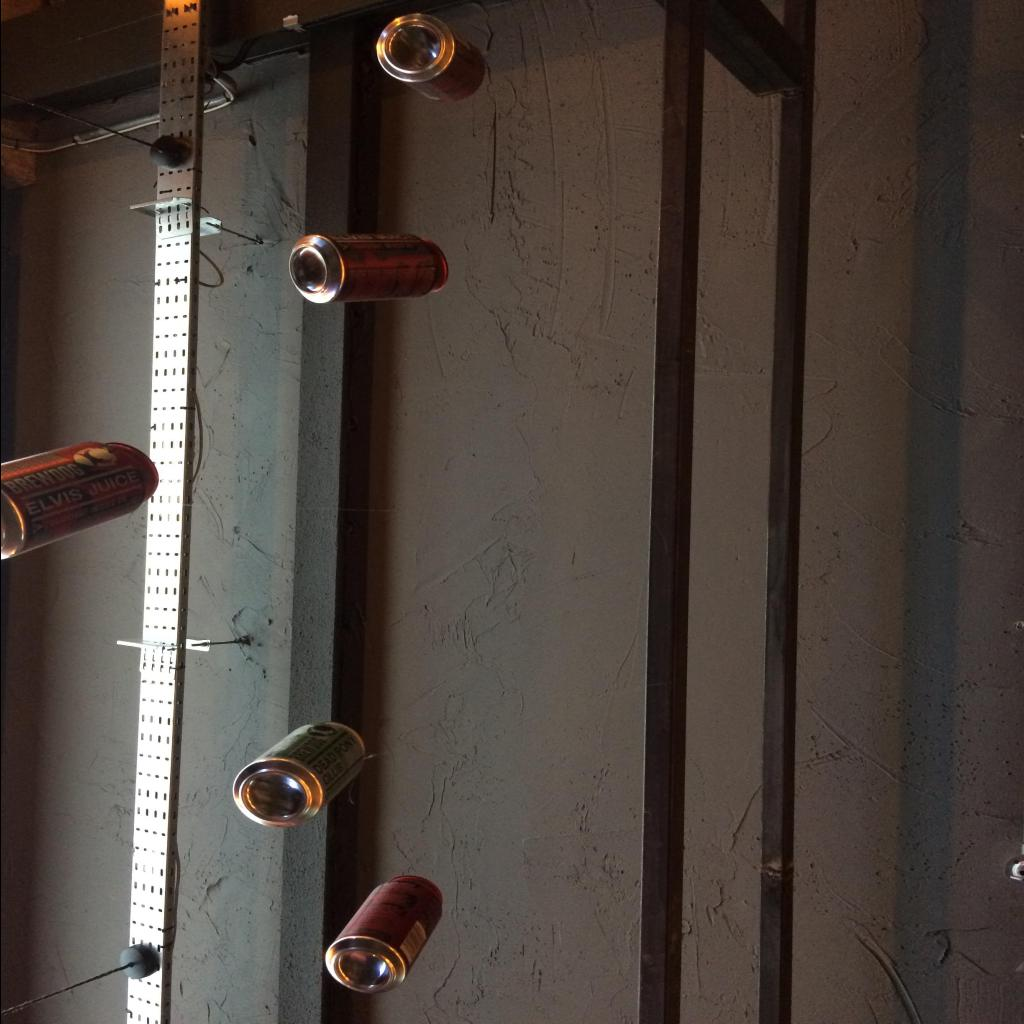Drink can: (0, 441, 158, 559), (232, 722, 364, 828), (324, 876, 442, 994), (288, 234, 447, 304), (375, 14, 484, 102)
